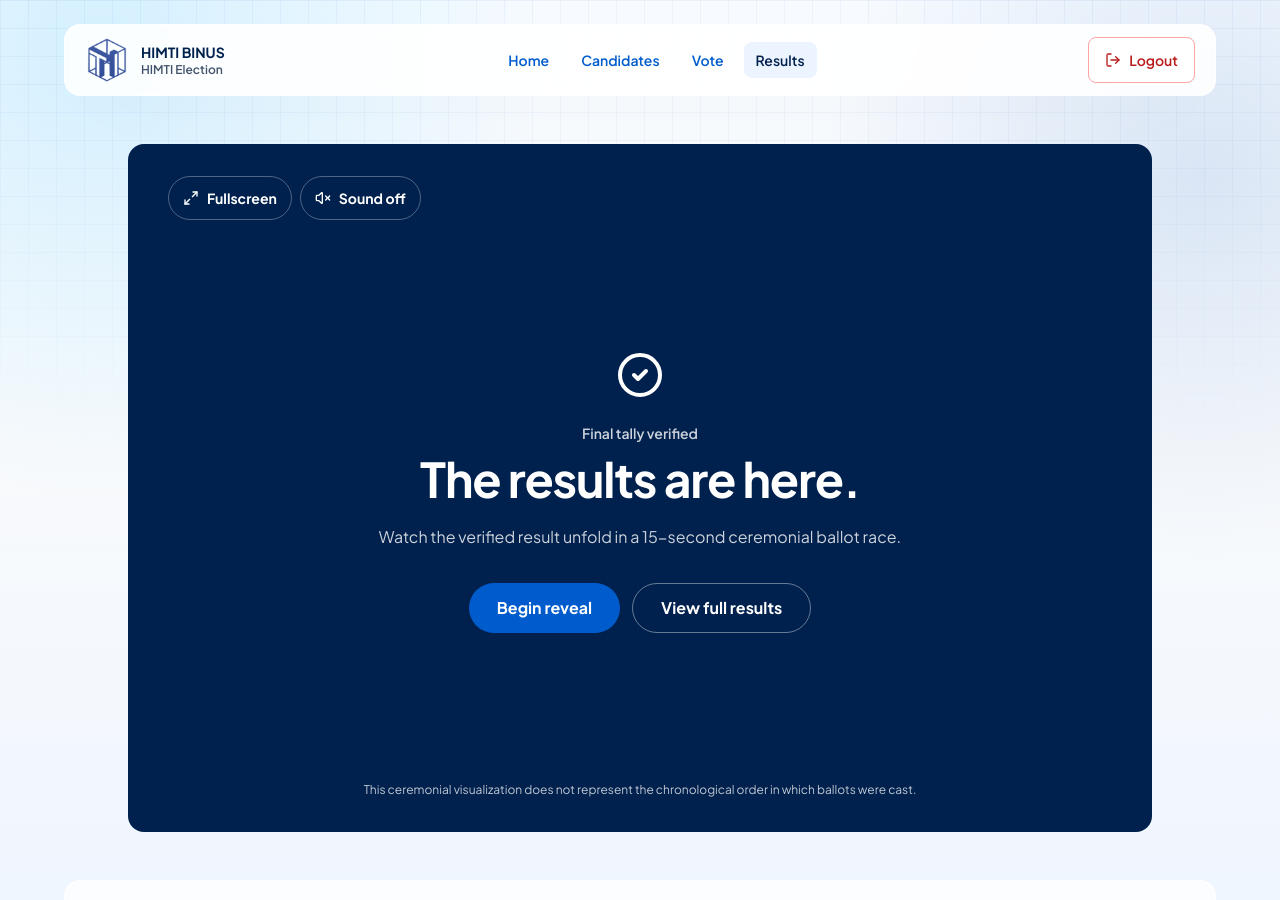
Test: skipping an active reveal keeps the final results visible
The image size is (1280, 900).
Click the button "Begin reveal" at (544, 608), box 469,583 -> 620,633
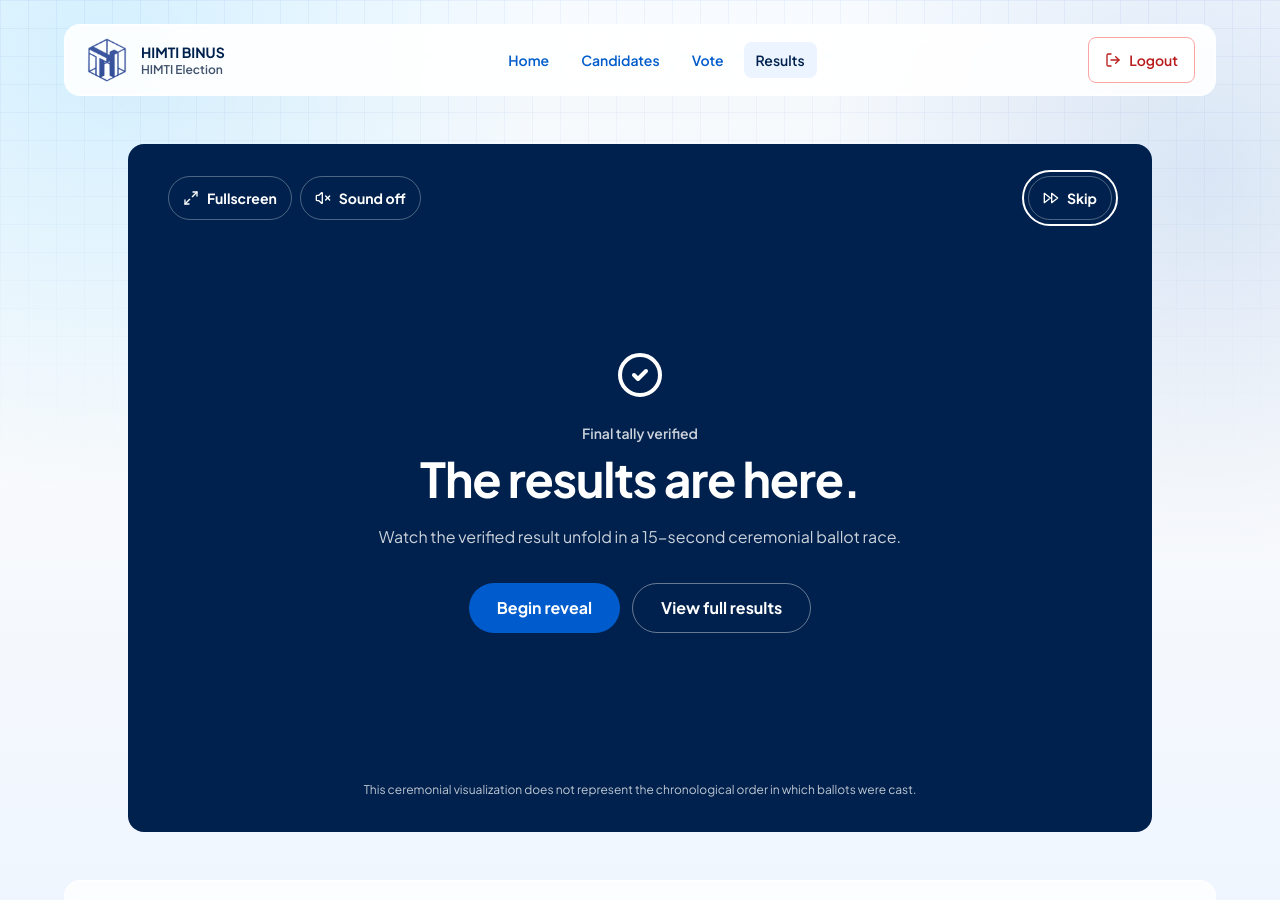
Click the button "Skip" at (1070, 198), box 1028,176 -> 1112,220
Wait 30000 ms
(page scrolled)
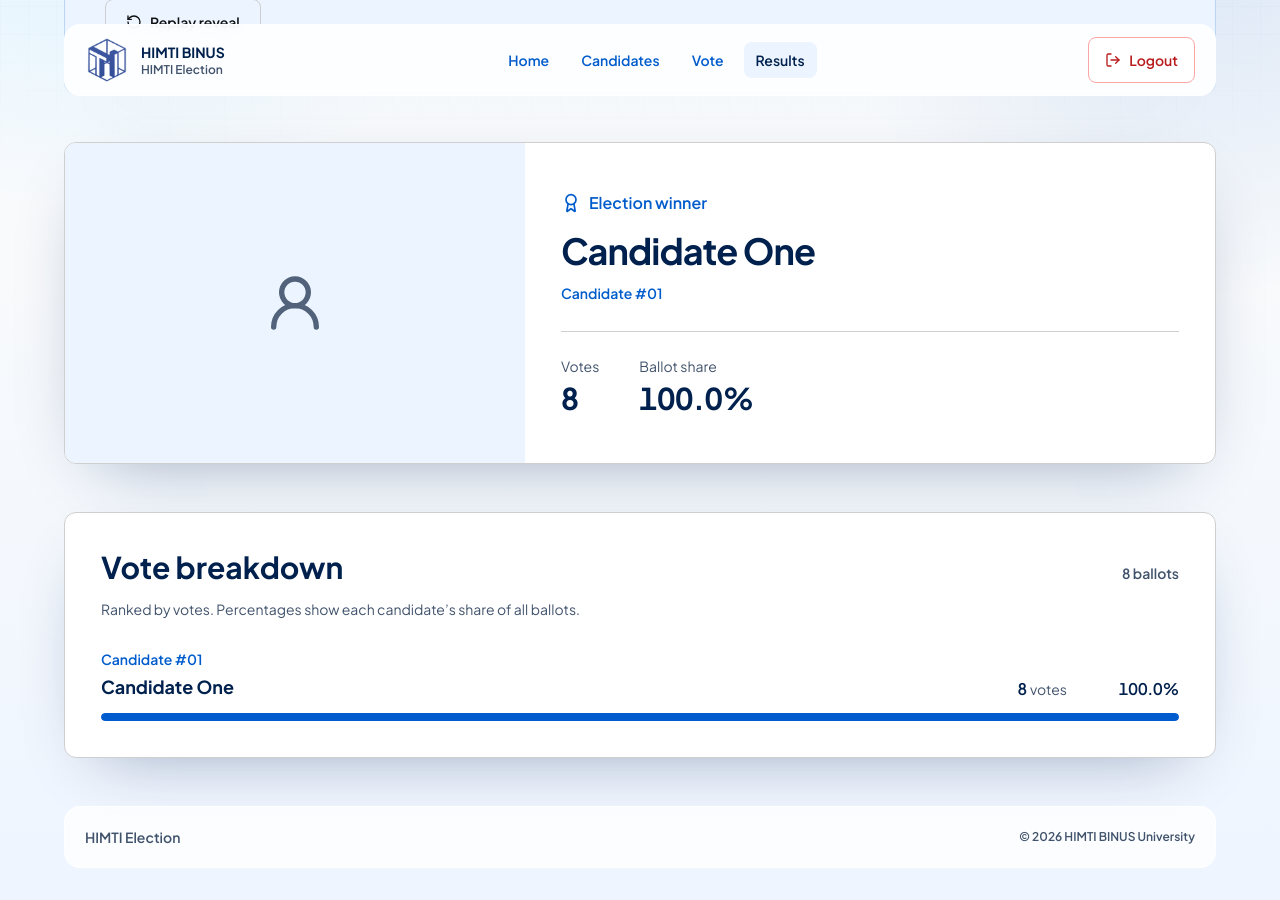
Expected: the button "Skip" is gone
